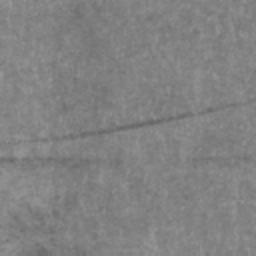Finishing roll printing: (0, 96, 256, 148), (0, 157, 125, 165), (191, 151, 256, 161)
